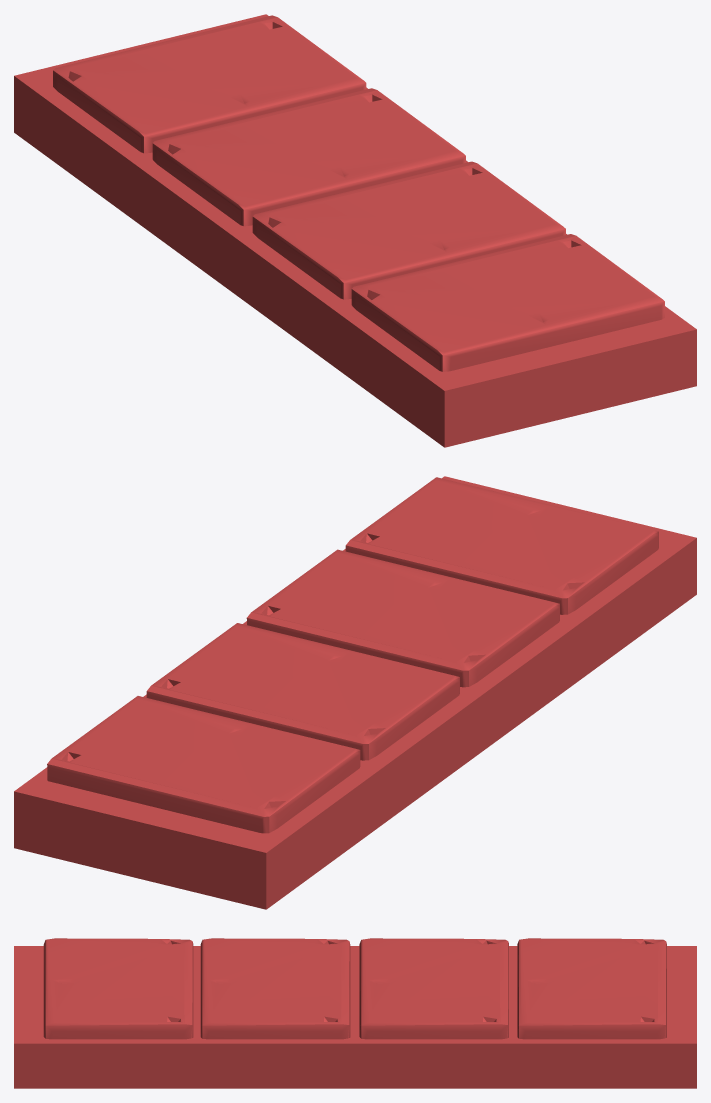
Rendered from Final_ComplexWall_3x1_01.FBX.
The picture shows the model from 3 angles, top to bottom: view 1: azimuth 30°, elevation 25°; view 2: azimuth 150°, elevation 25°; view 3: azimuth 270°, elevation 25°; orthographic projection. The views are drawn at different scales.
Visible parts, largest first — view 1: Final_ComplexWall_3x1_01; view 2: Final_ComplexWall_3x1_01; view 3: Final_ComplexWall_3x1_01.
Boxes of the visible parts, x1,y1,x2,y2 form: Final_ComplexWall_3x1_01: (14, 14, 696, 447); Final_ComplexWall_3x1_01: (14, 476, 696, 909); Final_ComplexWall_3x1_01: (14, 938, 696, 1088).
Size of the model in its own units: 102 by 300 by 28.87.
